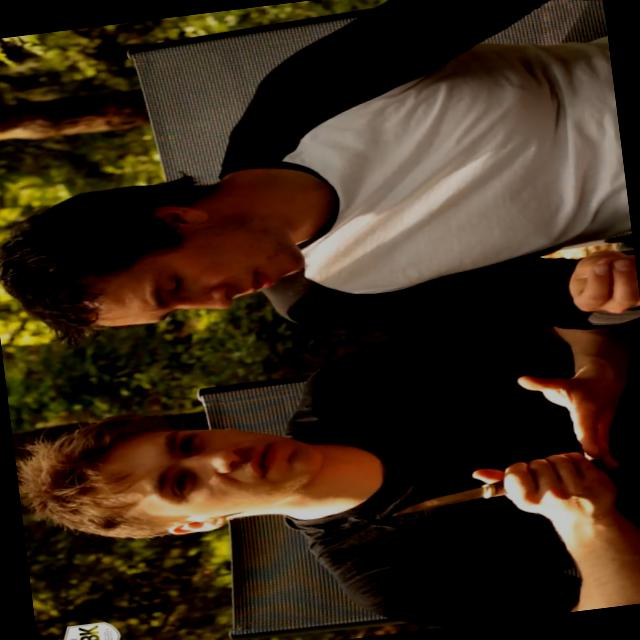knife: (370, 456, 544, 524)
